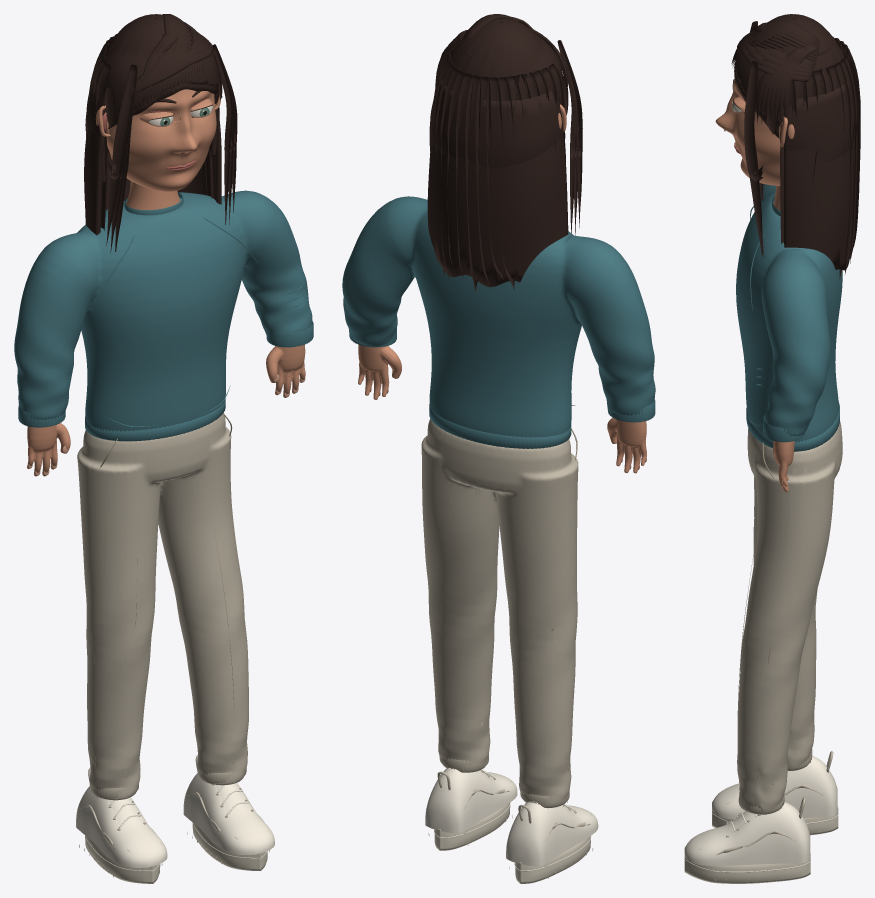
File: twin.glb
3 renders of one model, left to right at view 1: azimuth 30°, elevation 25°; view 2: azimuth 150°, elevation 25°; view 3: azimuth 270°, elevation 25°, orthographic.
Parts seen in each view (by area): view 1: Twin_Body, Hair_Bob_Geometry, Hair_Long_Geometry, Head_Sculpt, Twin_Hand, Hair_Crop_Geometry, Hair_Waves_Geometry, Neck; view 2: Twin_Body, Hair_Long_Geometry, Hair_Bob_Geometry, Hair_Waves_Geometry, Twin_Hand, Hair_Crop_Geometry; view 3: Twin_Body, Hair_Bob_Geometry, Hair_Long_Geometry, Head_Sculpt, Hair_Waves_Geometry, Hair_Crop_Geometry, Twin_Hand.
Boxes of the visible parts, bbox=[...] form: Twin_Body: bbox=[14, 190, 313, 883]; Hair_Bob_Geometry: bbox=[85, 14, 237, 185]; Hair_Long_Geometry: bbox=[84, 34, 237, 253]; Head_Sculpt: bbox=[106, 89, 216, 191]; Twin_Hand: bbox=[27, 344, 305, 476]; Hair_Crop_Geometry: bbox=[105, 32, 222, 127]; Hair_Waves_Geometry: bbox=[105, 14, 218, 112]; Neck: bbox=[126, 181, 180, 210]; Twin_Body: bbox=[342, 196, 655, 883]; Hair_Long_Geometry: bbox=[427, 43, 582, 292]; Hair_Bob_Geometry: bbox=[429, 14, 582, 179]; Hair_Waves_Geometry: bbox=[450, 18, 563, 99]; Twin_Hand: bbox=[358, 344, 646, 473]; Hair_Crop_Geometry: bbox=[457, 16, 568, 115]; Twin_Body: bbox=[684, 184, 842, 883]; Hair_Bob_Geometry: bbox=[734, 15, 860, 181]; Hair_Long_Geometry: bbox=[744, 21, 860, 278]; Head_Sculpt: bbox=[715, 79, 780, 185]; Hair_Waves_Geometry: bbox=[735, 14, 843, 130]; Hair_Crop_Geometry: bbox=[731, 22, 832, 134]; Twin_Hand: bbox=[773, 441, 794, 492].
Size of the model in its own units: 0.6454 by 1.73 by 0.3331.
